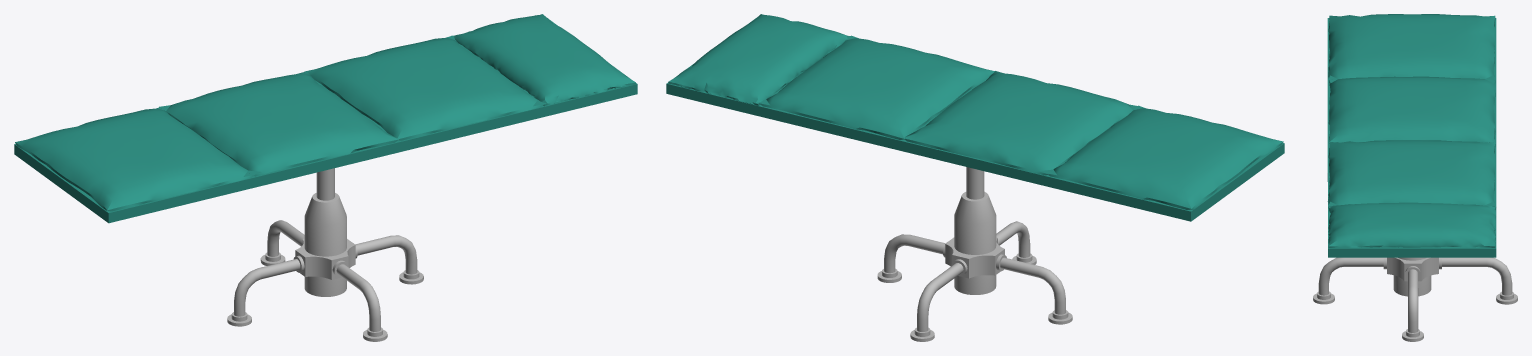
File: Hospital Bed Final.fbx
The picture shows the model from 3 angles, left to right: view 1: azimuth 30°, elevation 25°; view 2: azimuth 150°, elevation 25°; view 3: azimuth 270°, elevation 25°; orthographic projection. The views are drawn at different scales.
Visible parts, largest first — view 1: polySurface13; view 2: polySurface13; view 3: polySurface13.
Boxes of the visible parts, bbox=[...] form: polySurface13: bbox=[14, 14, 637, 341]; polySurface13: bbox=[666, 14, 1284, 341]; polySurface13: bbox=[1313, 14, 1517, 341].
Size of the model in its own units: 34.48 by 12.49 by 12.94.
